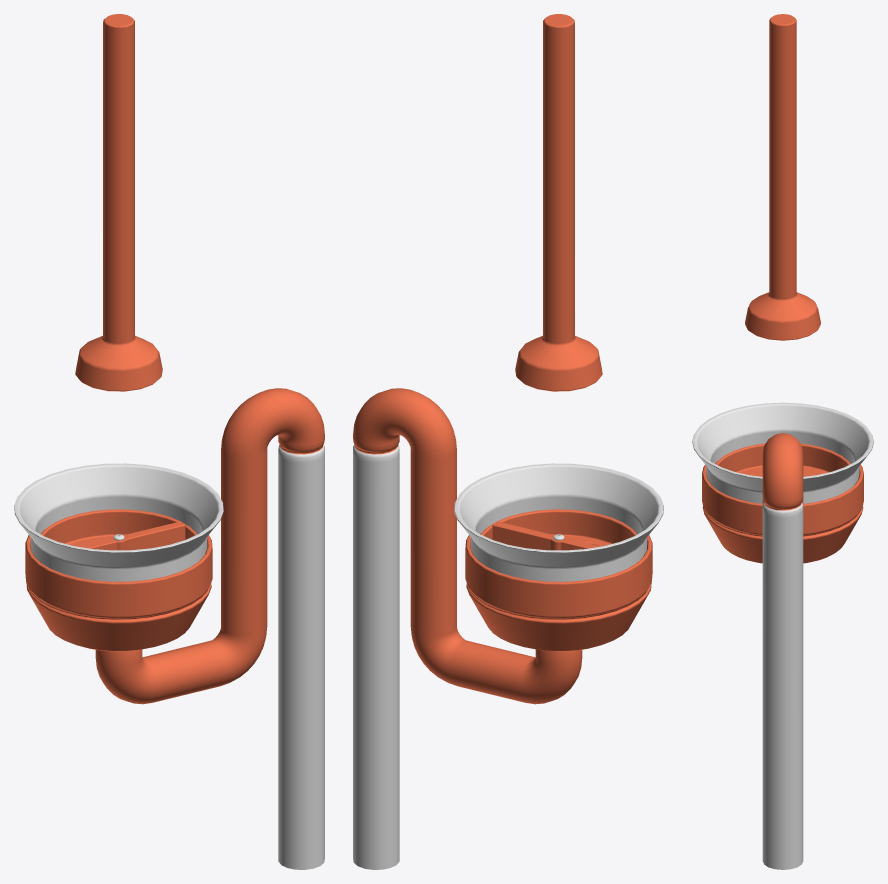
Rendered from ball_spinner.glb.
3 views of the same model, side by side, from view 1: azimuth 30°, elevation 25°; view 2: azimuth 150°, elevation 25°; view 3: azimuth 270°, elevation 25° (orthographic). The views are drawn at different scales.
Parts seen in each view (by area): view 1: BottomPipe, Body, Glass, TopPipe, Spinner; view 2: BottomPipe, Body, Glass, TopPipe, Spinner; view 3: BottomPipe, TopPipe, Glass, Body.
Boxes of the visible parts, x1,y1,x2,y2 form: BottomPipe: (95, 388, 324, 869); Body: (25, 509, 212, 651); Glass: (14, 463, 223, 581); TopPipe: (75, 14, 162, 391); Spinner: (78, 521, 185, 550); BottomPipe: (353, 388, 582, 869); Body: (465, 509, 652, 651); Glass: (454, 463, 663, 581); TopPipe: (515, 14, 602, 391); Spinner: (492, 521, 599, 550); BottomPipe: (762, 433, 803, 869); TopPipe: (745, 14, 820, 340); Glass: (692, 402, 873, 503); Body: (702, 443, 863, 563).
Bounding box in the file's own units: 17.38 × 50 × 10.77.
